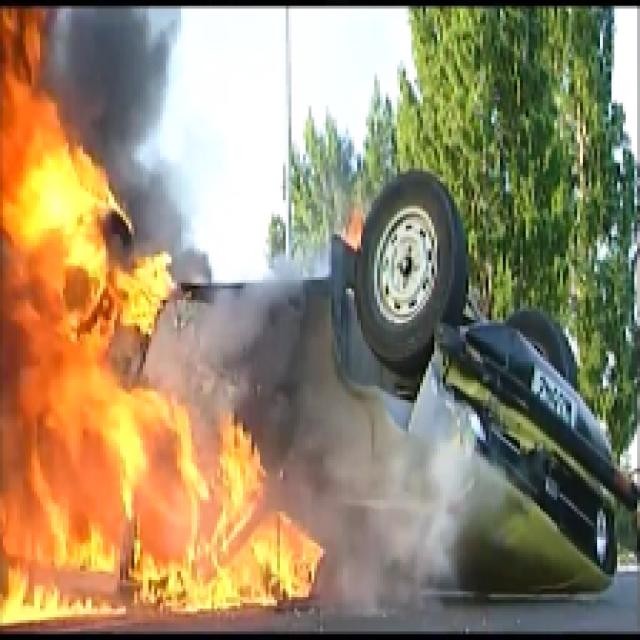fire: (0, 89, 120, 617), (129, 418, 255, 614)
smoke: (332, 450, 450, 620)
